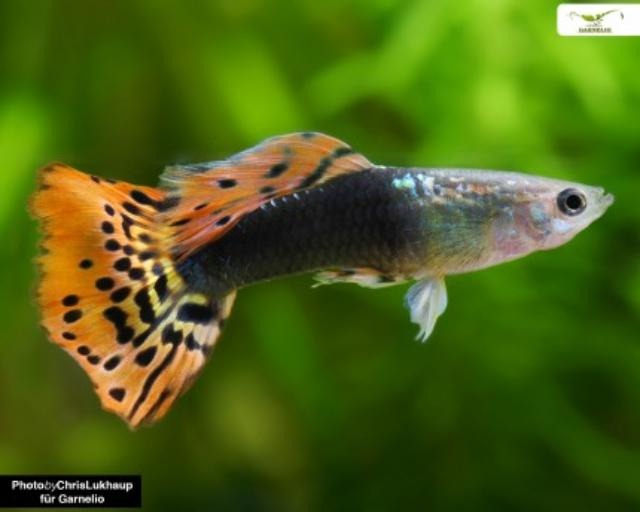Mulut: (571, 162, 627, 240)
Sirip Anal: (297, 245, 395, 303)
Sirip Dada: (411, 186, 512, 288)
Sirip Ekor: (26, 150, 230, 448)
Sirip Perut: (397, 268, 455, 348)
Sirip Punggung: (130, 125, 382, 265)
